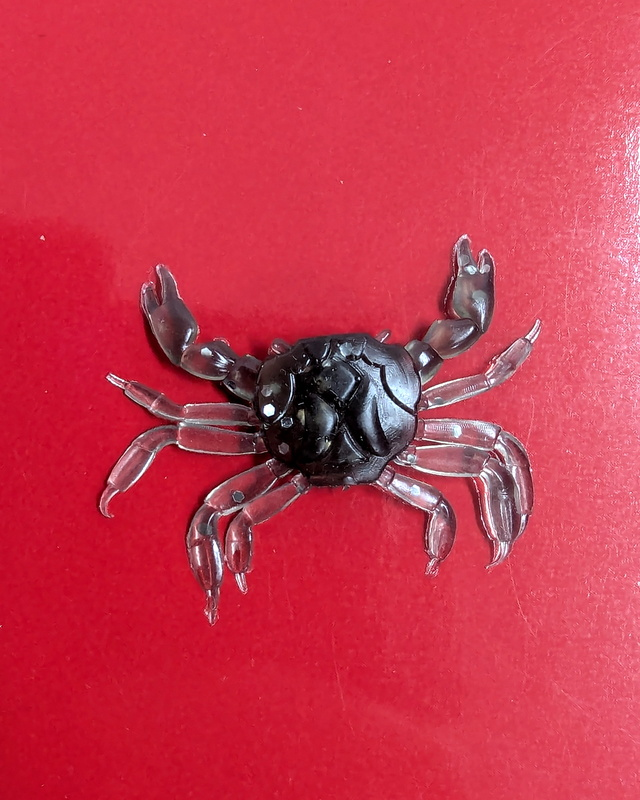crab1: (93, 234, 546, 625)
